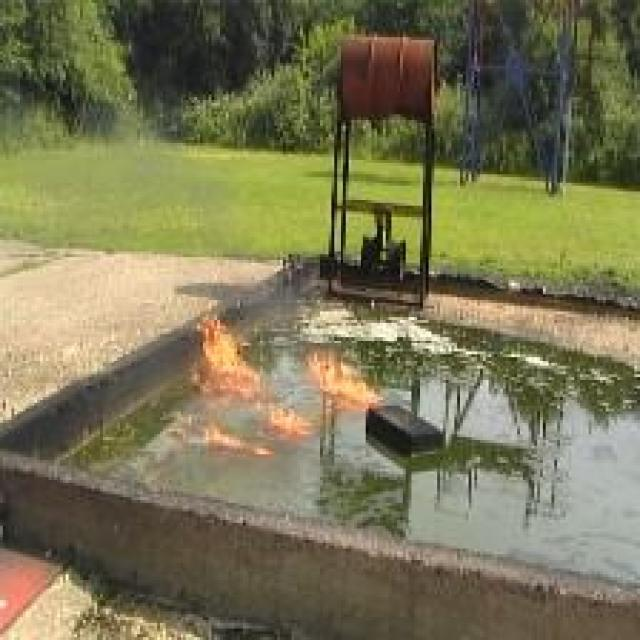Fire: (191, 313, 266, 402), (170, 413, 273, 458), (309, 352, 382, 408), (261, 402, 313, 442)
